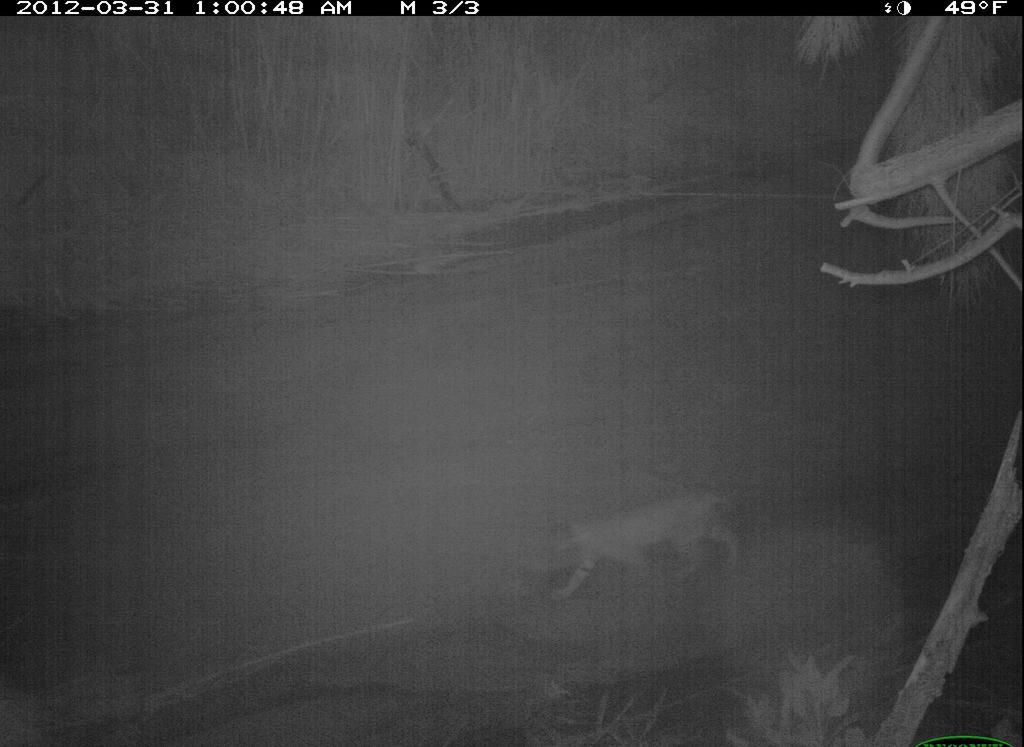bobcat: (536, 482, 747, 609)
